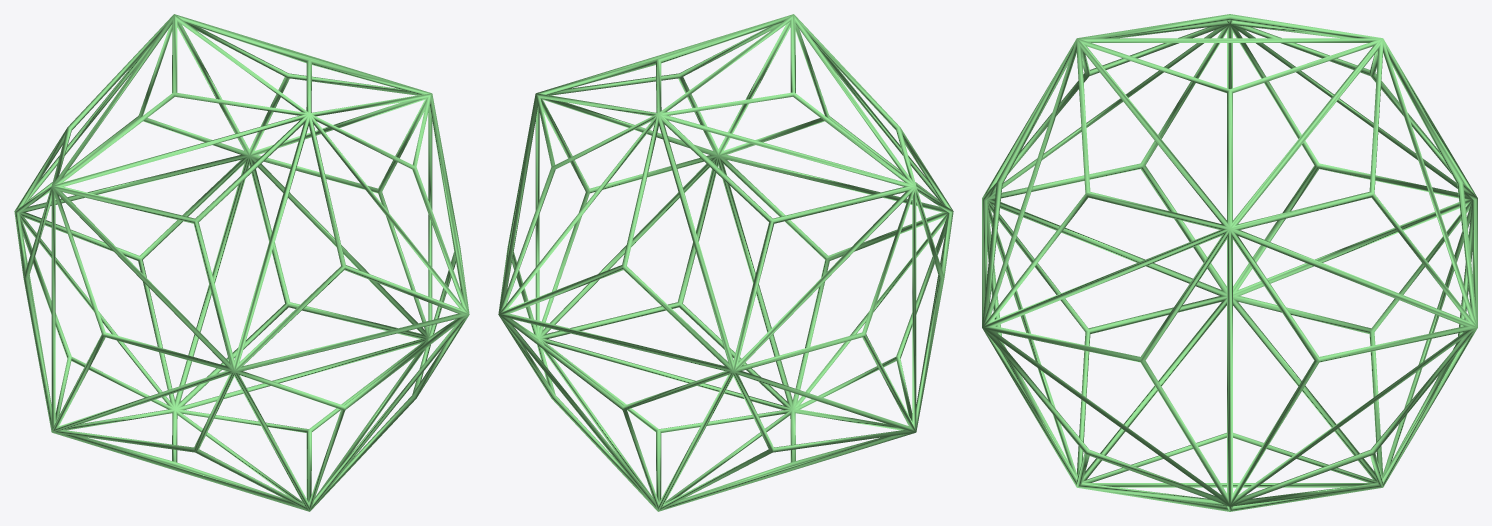
The model's file is TriakisIcosahedron2.glb.
3 renders of one model, left to right at view 1: azimuth 30°, elevation 25°; view 2: azimuth 150°, elevation 25°; view 3: azimuth 270°, elevation 25°, orthographic. The views are drawn at different scales.
Visible parts, largest first — view 1: TriakisIcosahedron; view 2: TriakisIcosahedron; view 3: TriakisIcosahedron.
Part boxes in pixels (box(x1,y1,x2,y2)): TriakisIcosahedron: box(14, 14, 469, 511); TriakisIcosahedron: box(498, 14, 953, 511); TriakisIcosahedron: box(982, 14, 1477, 511).
Bounding box in the file's own units: 5.92 × 5.92 × 5.92.
